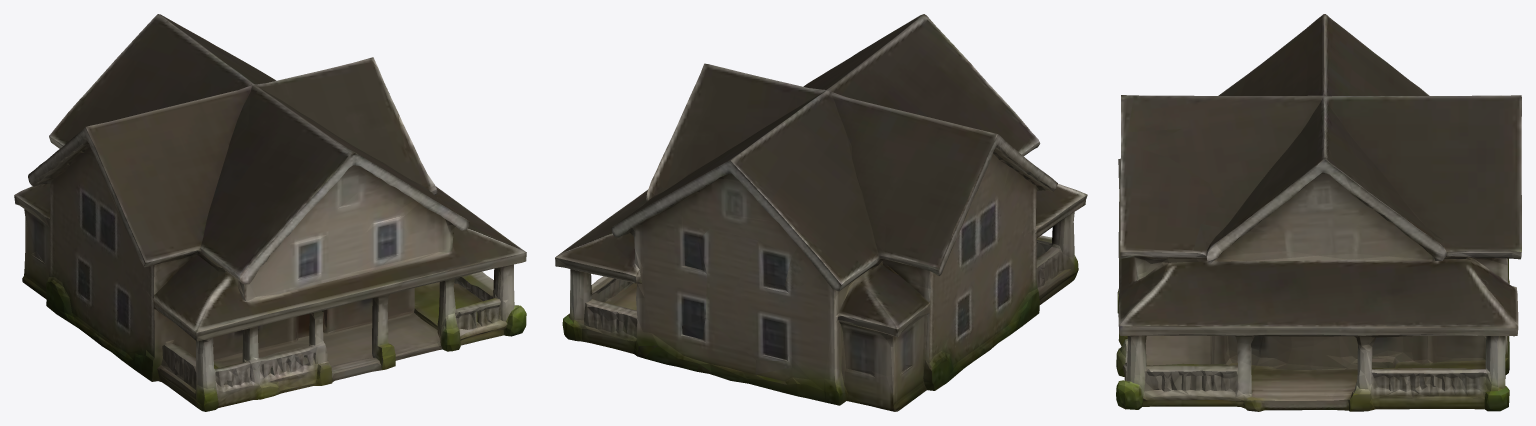
File: house 6.glb
The picture shows the model from 3 angles, left to right: view 1: azimuth 30°, elevation 25°; view 2: azimuth 150°, elevation 25°; view 3: azimuth 270°, elevation 25°; orthographic projection. The views are drawn at different scales.
Parts seen in each view (by area): view 1: world; view 2: world; view 3: world.
Boxes of the visible parts, left/top/right/bottom form: world: left=14, top=14, right=526, bottom=411; world: left=555, top=14, right=1087, bottom=411; world: left=1116, top=14, right=1521, bottom=411.
Bounding box in the file's own units: 0.494 × 0.3067 × 0.4873.
1 material, 1 textured.
